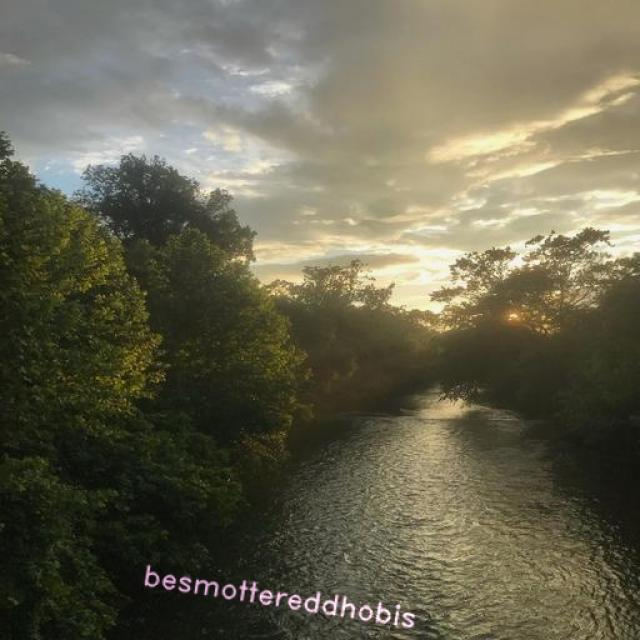watermark: (134, 562, 434, 632)
